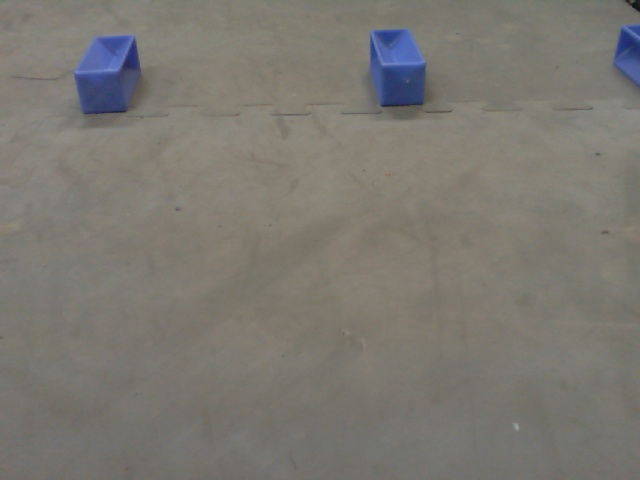BlueSample: (69, 31, 148, 119), (366, 25, 432, 113), (614, 23, 640, 90)
